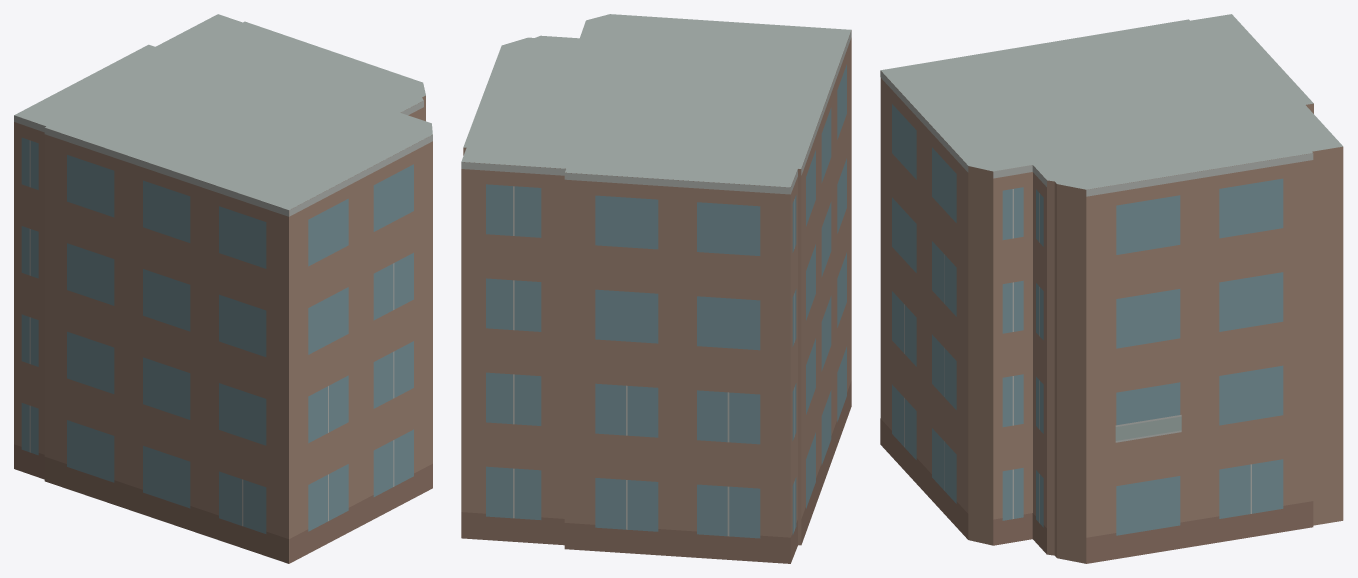
File: survey-upis-32727486.glb
3 views of the same model, side by side, from view 1: azimuth 30°, elevation 25°; view 2: azimuth 150°, elevation 25°; view 3: azimuth 270°, elevation 25° (orthographic). The views are drawn at different scales.
Visible parts, largest first — view 1: survey-upis-32727486.tmp; view 2: survey-upis-32727486.tmp; view 3: survey-upis-32727486.tmp.
Boxes of the visible parts, box(x1,y1,x2,y2) form: survey-upis-32727486.tmp: box(14, 14, 432, 563); survey-upis-32727486.tmp: box(461, 14, 851, 563); survey-upis-32727486.tmp: box(880, 14, 1343, 563).
Bounding box in the file's own units: 13.1 × 13 × 14.59.
